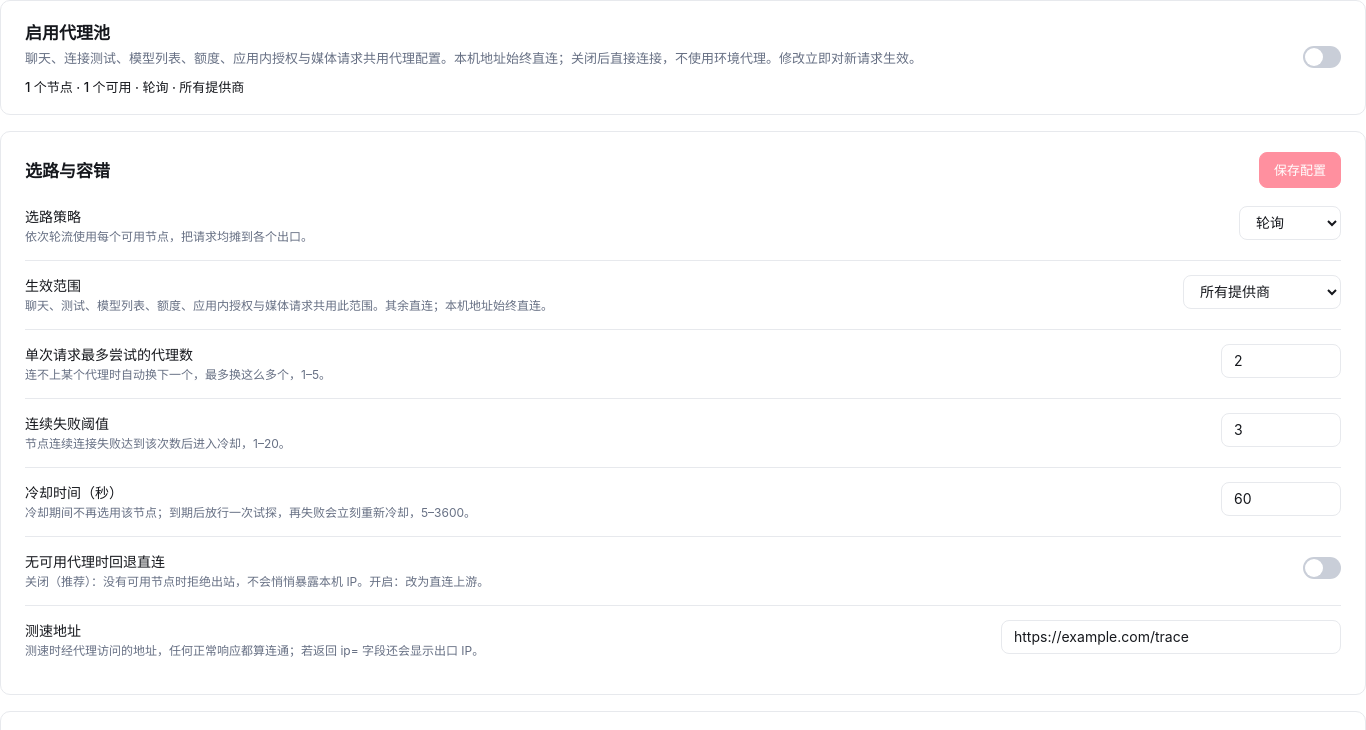
Test: ProxyPoolView › 范围选“仅指定”时出现提供商选择器
Select "仅指定的提供商" in the dropdown with test id "scope": [1262, 292] box left=1183, top=275, right=1341, bottom=309
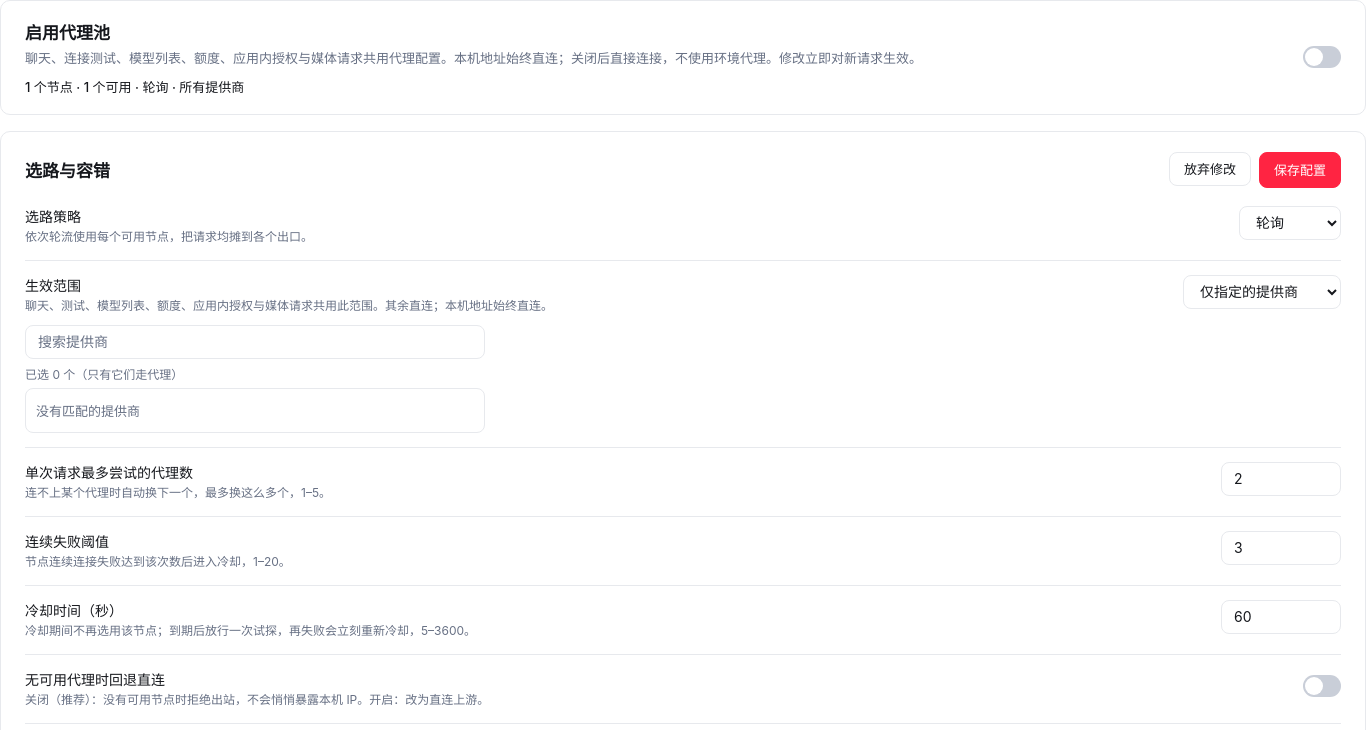
Now the element with test id "provider-picker" is shown, box left=25, top=325, right=485, bottom=433
